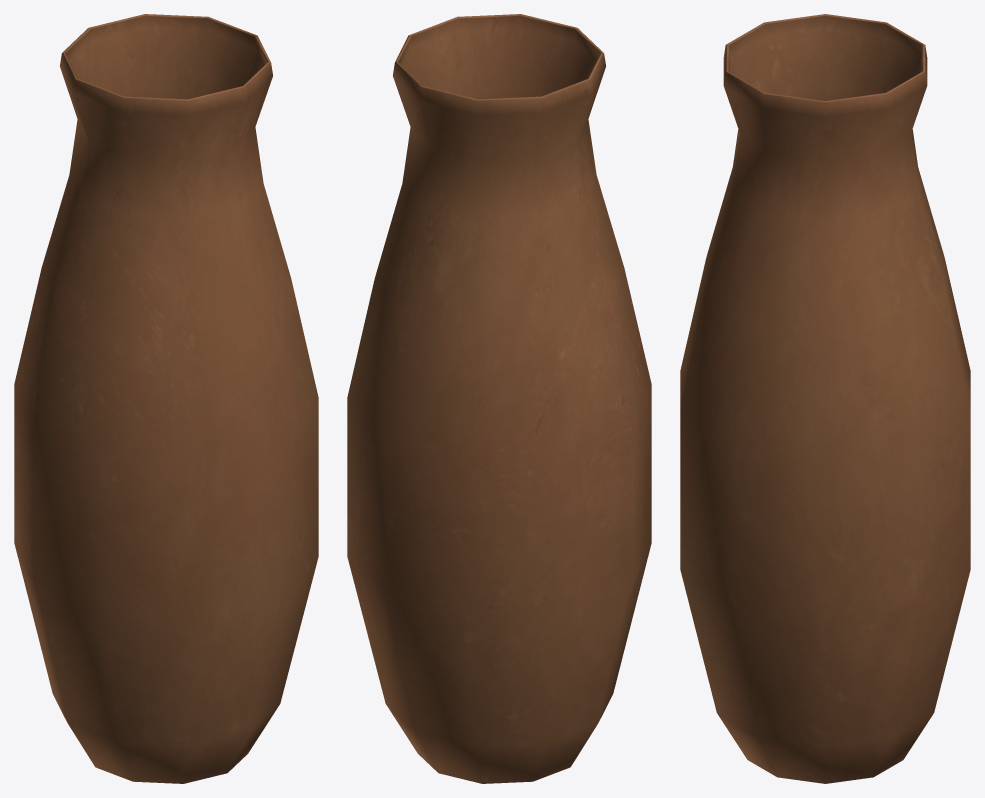
File: PotteryJar6.fbx
3 views of the same model, side by side, from view 1: azimuth 30°, elevation 25°; view 2: azimuth 150°, elevation 25°; view 3: azimuth 270°, elevation 25° (orthographic).
Visible parts, largest first — view 1: PotteryJar6_; view 2: PotteryJar6_; view 3: PotteryJar6_.
Boxes of the visible parts, <box> form: PotteryJar6_: <box>14,14,318,783</box>; PotteryJar6_: <box>347,14,651,783</box>; PotteryJar6_: <box>680,14,970,783</box>.
Size of the model in its own units: 8.55 by 21.45 by 8.13.
